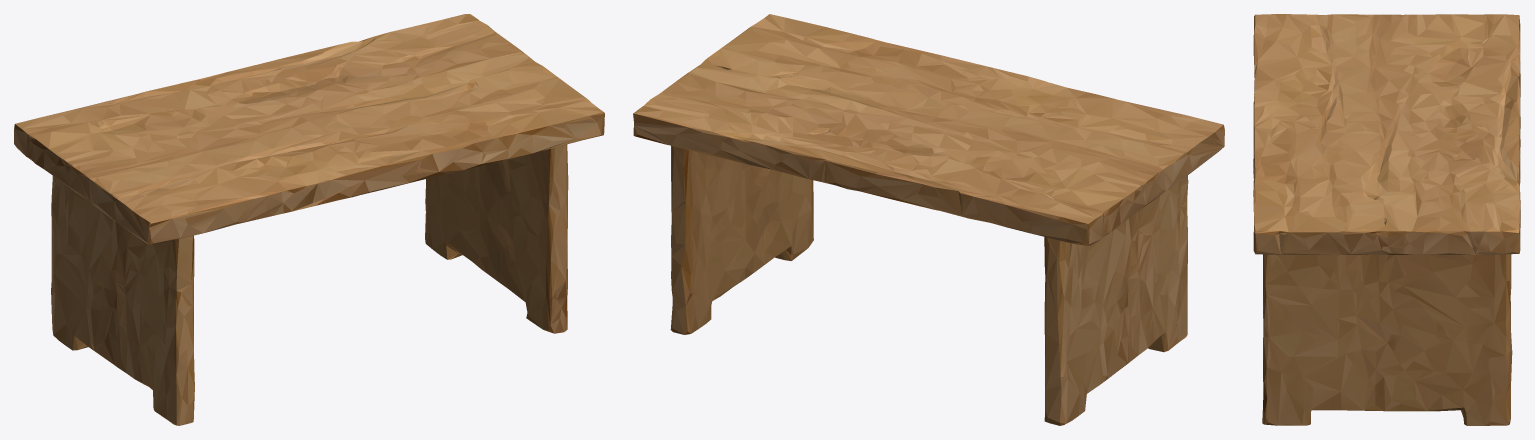
File: stand.glb
3 renders of one model, left to right at view 1: azimuth 30°, elevation 25°; view 2: azimuth 150°, elevation 25°; view 3: azimuth 270°, elevation 25°, orthographic. The views are drawn at different scales.
Parts seen in each view (by area): view 1: stand; view 2: stand; view 3: stand.
Part boxes in pixels (x1,y1,x2,y2): stand: (14,14,604,425); stand: (633,14,1224,425); stand: (1253,14,1520,425).
Bounding box in the file's own units: 0.9804 × 0.4419 × 0.5081.
1 material, 1 textured.
